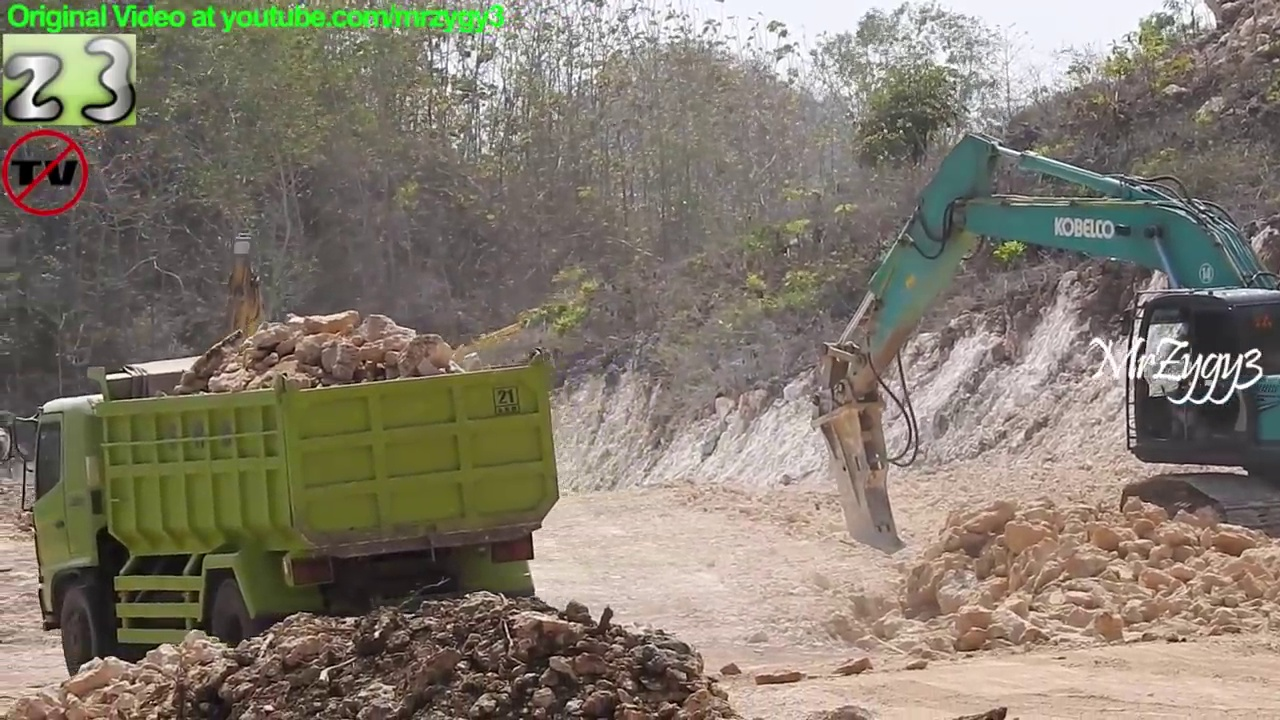excavator: (805, 124, 1280, 562), (330, 281, 581, 502), (164, 226, 330, 519)
truck: (1, 341, 571, 690)
